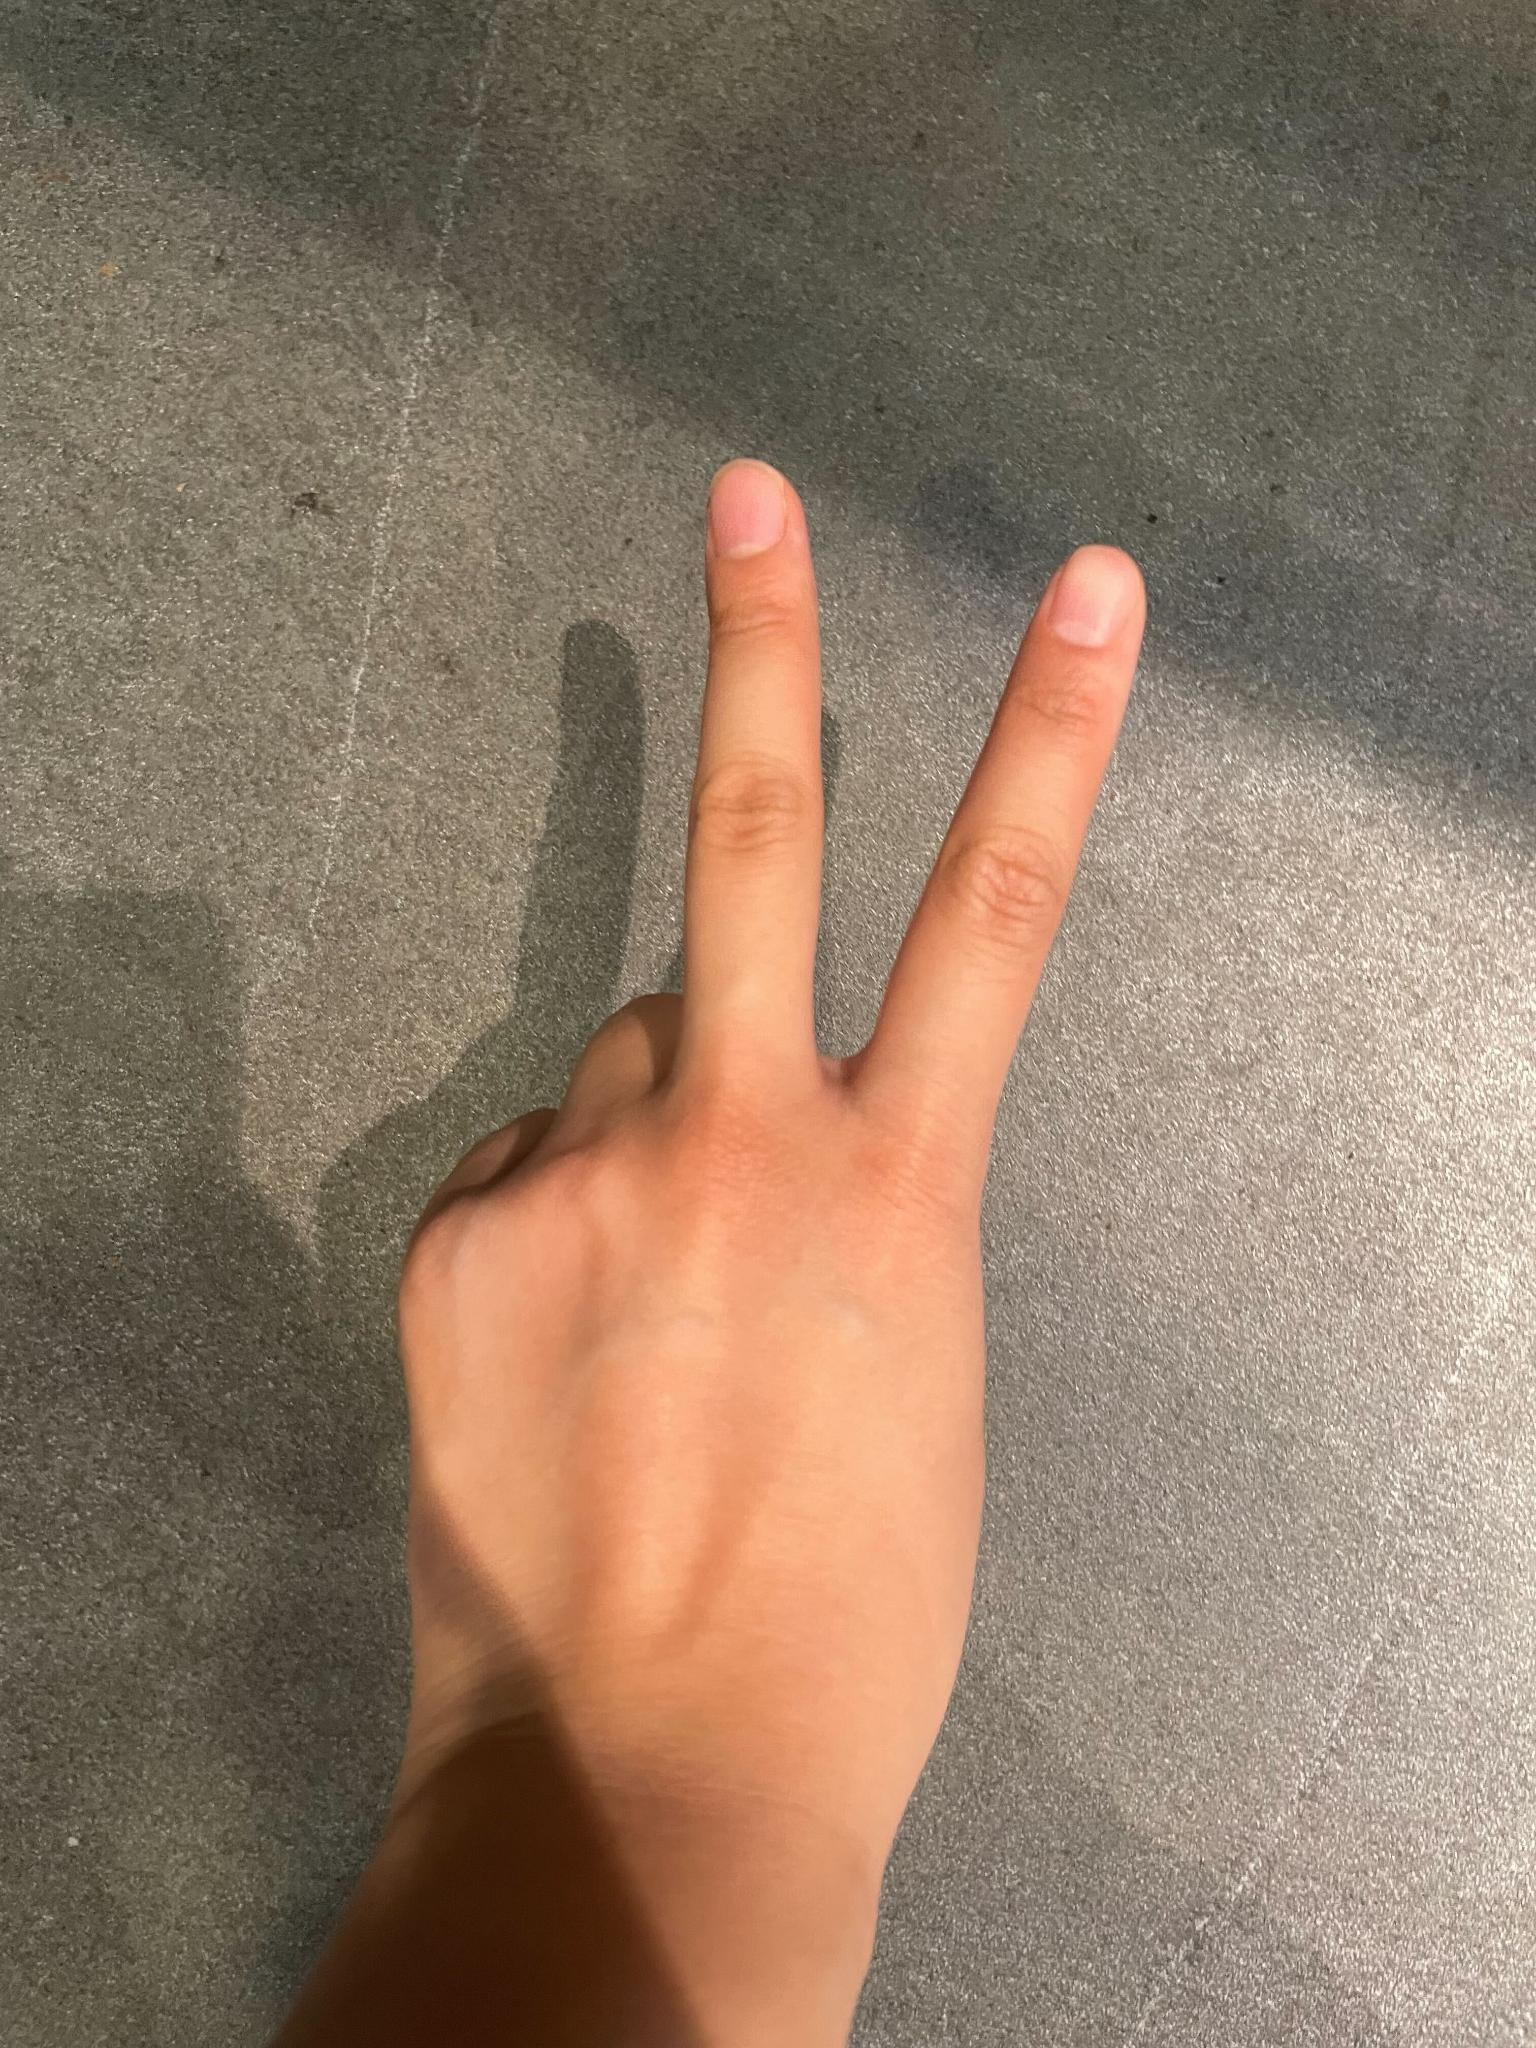v: (371, 437, 1158, 2048)
